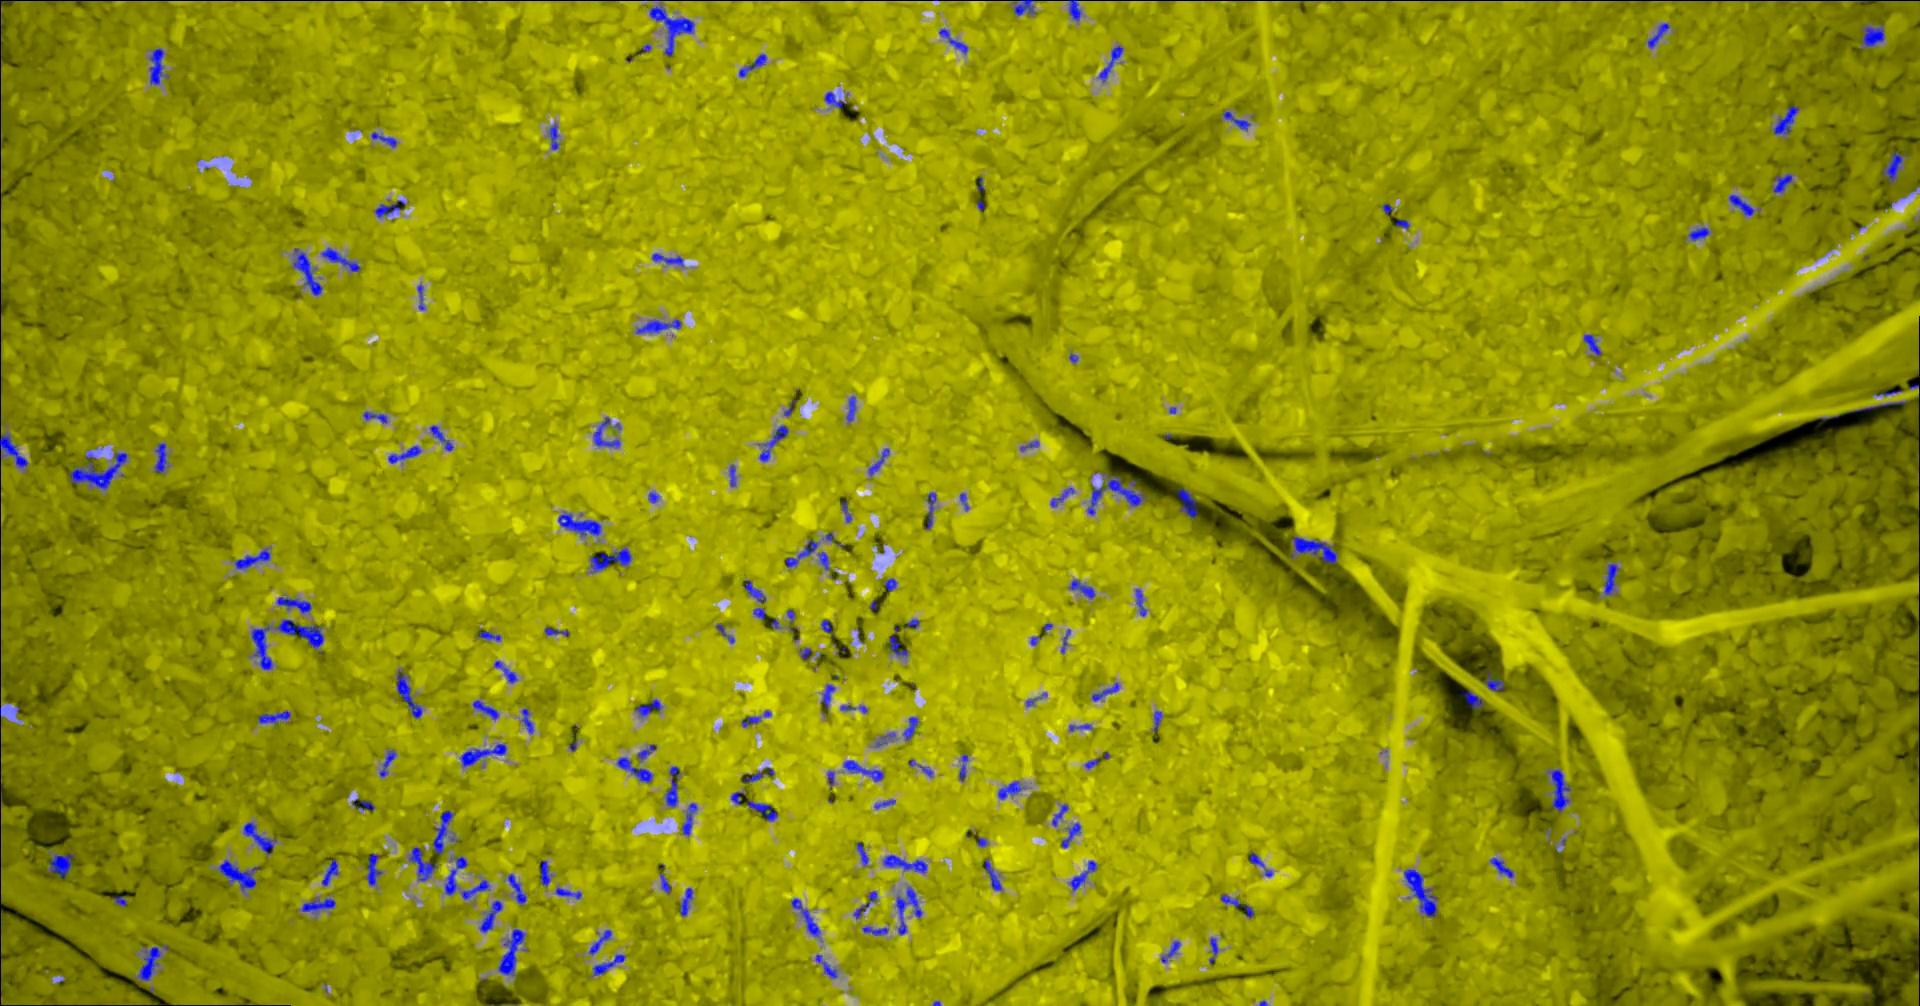ant: (251, 619, 323, 669), (69, 448, 127, 489), (1087, 475, 1145, 514), (649, 5, 695, 55), (1403, 869, 1437, 916), (292, 246, 323, 295), (217, 859, 259, 890), (497, 929, 524, 976), (1291, 536, 1336, 564), (396, 669, 422, 718), (790, 898, 820, 937), (895, 887, 921, 934), (557, 511, 601, 536), (243, 822, 276, 854), (460, 743, 505, 766), (758, 426, 787, 461), (0, 432, 28, 467), (432, 810, 455, 854), (590, 547, 631, 572), (320, 246, 359, 271), (783, 540, 819, 567), (616, 756, 651, 782), (408, 847, 436, 880), (1098, 44, 1123, 83), (1548, 768, 1570, 810), (444, 856, 467, 894), (843, 760, 883, 781), (1220, 893, 1255, 917), (1843, 400, 1907, 413), (883, 854, 926, 873), (593, 417, 620, 447), (1069, 860, 1096, 890), (234, 547, 270, 568), (1771, 105, 1798, 133), (938, 28, 968, 53), (137, 946, 159, 981), (1879, 151, 1902, 183), (479, 901, 502, 932), (592, 953, 623, 976), (853, 890, 877, 920), (149, 47, 168, 84), (1175, 486, 1197, 517), (745, 800, 777, 821), (738, 53, 766, 76), (635, 319, 681, 333), (276, 596, 311, 614), (387, 445, 420, 464), (48, 854, 75, 876), (429, 426, 453, 450), (1248, 852, 1272, 876), (507, 873, 526, 903), (588, 929, 611, 954), (867, 448, 889, 475), (983, 859, 1001, 890), (461, 879, 488, 899), (1222, 111, 1250, 130), (1647, 23, 1669, 47), (1860, 24, 1884, 46), (815, 954, 837, 978), (375, 199, 404, 217), (472, 699, 498, 719), (665, 766, 678, 807), (1068, 579, 1095, 598), (997, 780, 1023, 799), (1603, 561, 1618, 594), (257, 710, 290, 725), (681, 801, 696, 835), (1091, 682, 1119, 700), (493, 661, 516, 682), (1728, 194, 1752, 215), (1049, 486, 1074, 506), (1060, 822, 1079, 847), (366, 854, 381, 885), (301, 898, 335, 912), (635, 699, 662, 716), (743, 580, 764, 602), (743, 767, 773, 782), (1459, 688, 1483, 708), (651, 251, 683, 265), (378, 749, 395, 776), (1490, 857, 1512, 876), (371, 131, 396, 147), (907, 760, 932, 776), (1161, 940, 1180, 962), (321, 859, 337, 885), (902, 716, 918, 741), (678, 887, 692, 915), (715, 622, 734, 643), (1484, 671, 1503, 691), (889, 634, 907, 655), (924, 492, 935, 528), (538, 860, 552, 887), (154, 443, 166, 473), (1771, 173, 1790, 192), (1583, 334, 1601, 354), (1051, 804, 1068, 826), (820, 683, 834, 708), (824, 91, 844, 108), (1013, 0, 1035, 15), (521, 708, 533, 733), (636, 744, 657, 760), (350, 798, 375, 810), (856, 841, 869, 865), (555, 887, 582, 898), (1135, 588, 1145, 616), (1688, 227, 1709, 240), (363, 412, 386, 423), (1067, 0, 1079, 20), (543, 626, 569, 636), (957, 754, 968, 780), (476, 630, 500, 640), (841, 704, 867, 713), (861, 926, 888, 935), (549, 123, 557, 149), (846, 395, 855, 420), (817, 551, 829, 569), (841, 500, 851, 522), (659, 873, 670, 892), (1209, 937, 1217, 963), (417, 285, 424, 309), (742, 716, 759, 727), (728, 464, 735, 486), (730, 791, 743, 804), (1153, 710, 1161, 730), (884, 578, 897, 589), (752, 607, 764, 619), (820, 619, 830, 633), (112, 895, 126, 906)
